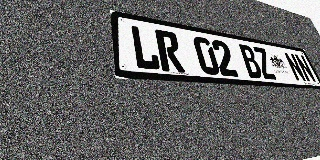0: (192, 36, 221, 75)
2: (210, 39, 239, 77)
B: (237, 44, 264, 79)
L: (129, 25, 161, 71)
N: (283, 52, 307, 82), (294, 54, 317, 83)
R: (154, 29, 185, 73)
Z: (252, 46, 278, 80)
